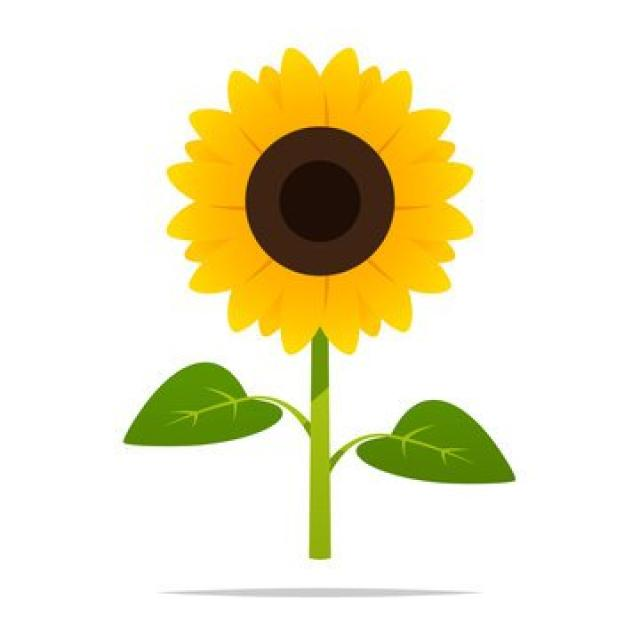sunflower: (163, 44, 473, 356)
